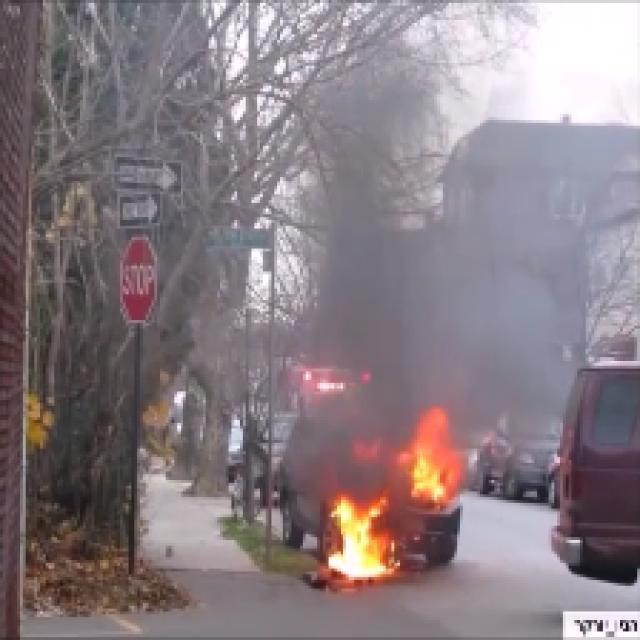fire: (321, 490, 387, 585), (400, 431, 450, 499)
smoke: (340, 243, 530, 422), (310, 428, 390, 483)
